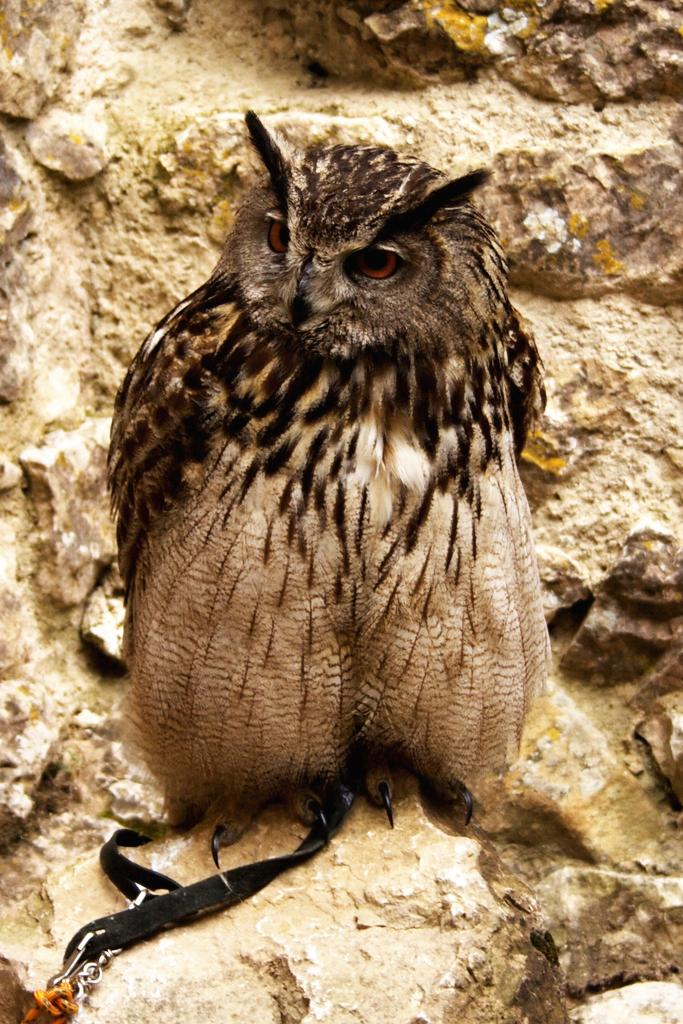Owl: (95, 112, 559, 894)
